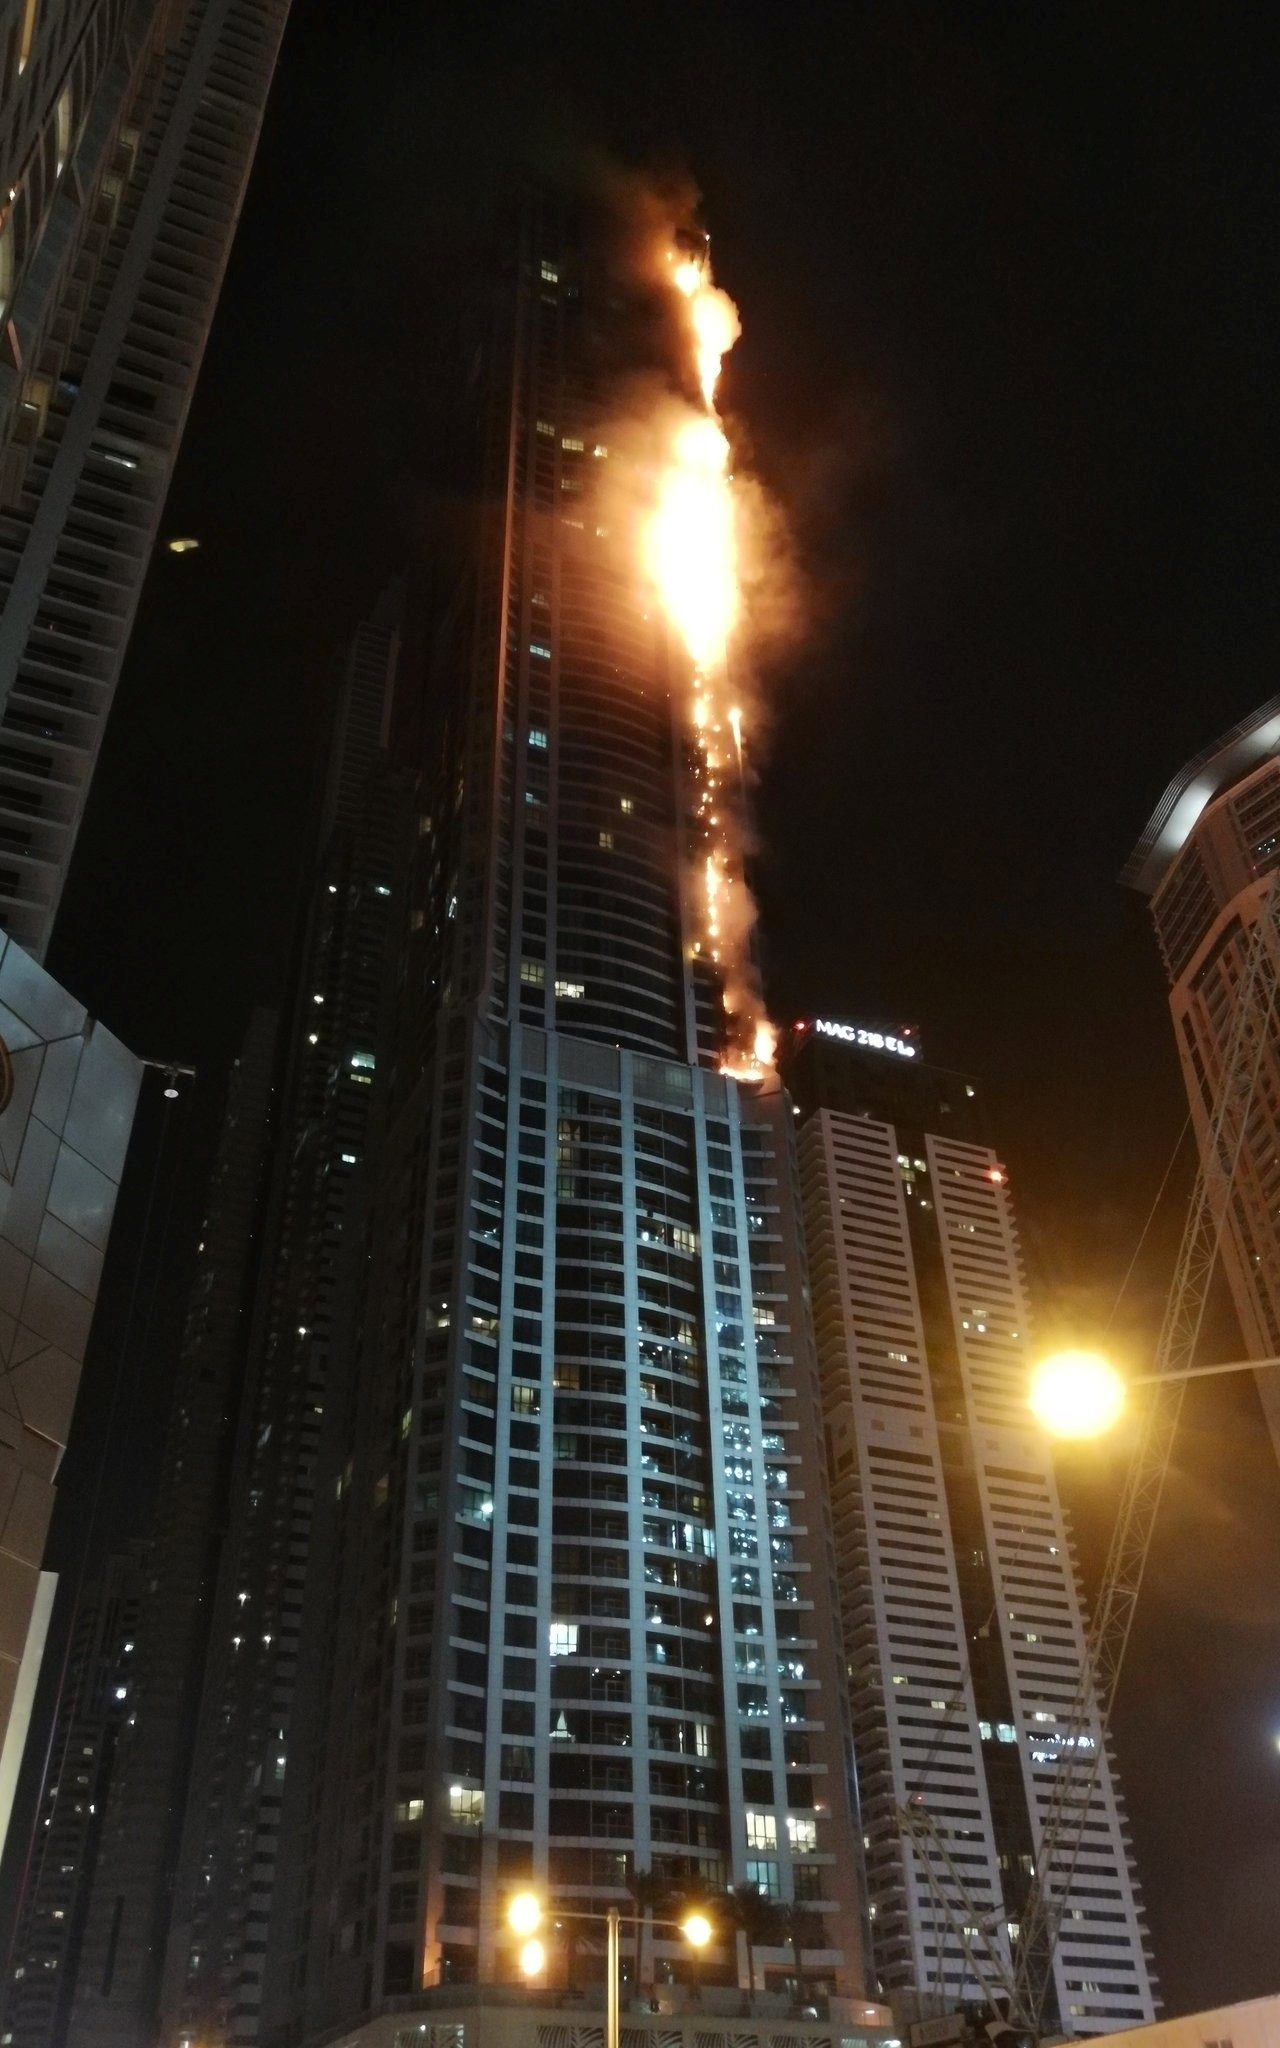Fire: (633, 193, 765, 843), (577, 484, 619, 637), (720, 1001, 779, 1078), (706, 867, 748, 950)
